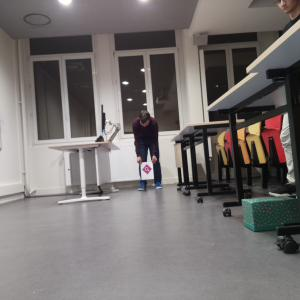search: (142, 164, 152, 175)
